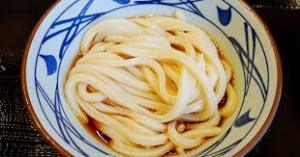bukkake: (24, 1, 278, 157)
